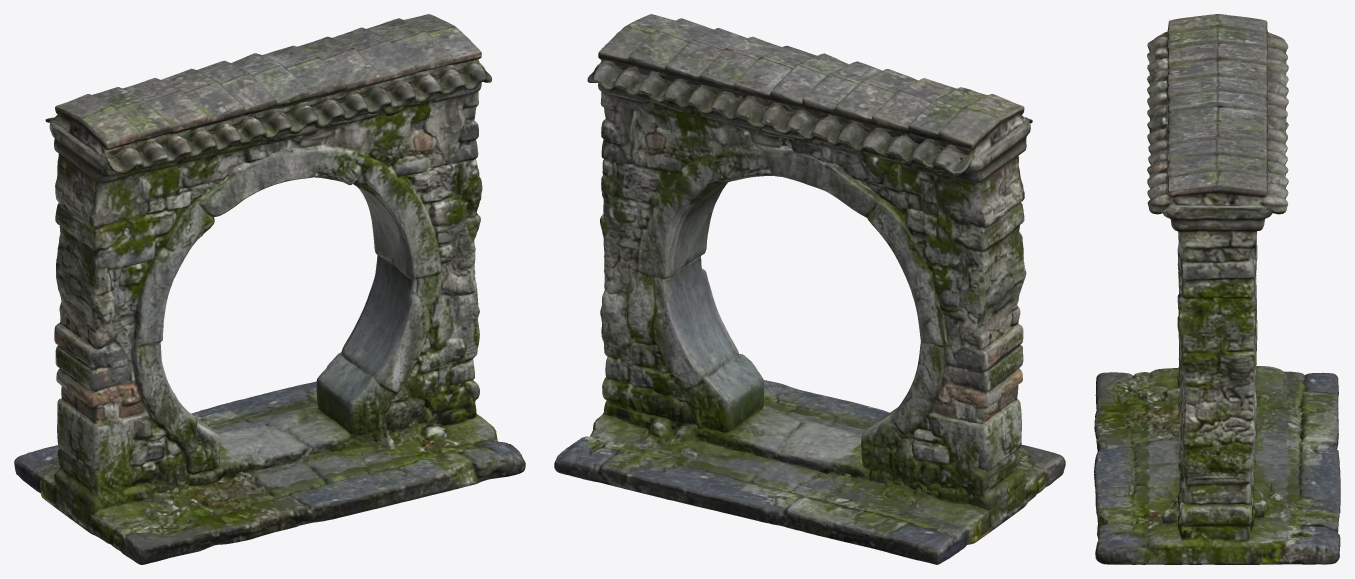
Rendered from moon-gate.glb.
3 renders of one model, left to right at view 1: azimuth 30°, elevation 25°; view 2: azimuth 150°, elevation 25°; view 3: azimuth 270°, elevation 25°, orthographic. The views are drawn at different scales.
Visible parts, largest first — view 1: geometry_0; view 2: geometry_0; view 3: geometry_0.
Boxes of the visible parts, x1,y1,x2,y2 form: geometry_0: [14, 14, 525, 564]; geometry_0: [554, 14, 1065, 564]; geometry_0: [1094, 14, 1340, 564].
Bounding box in the file's own units: 2.85 × 2.8 × 1.65.
Materials: 1 (1 with a texture image).
